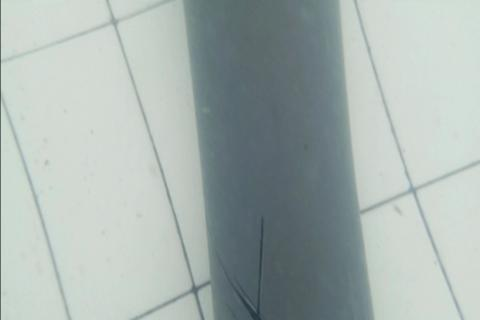keretakan: (214, 214, 265, 320)
